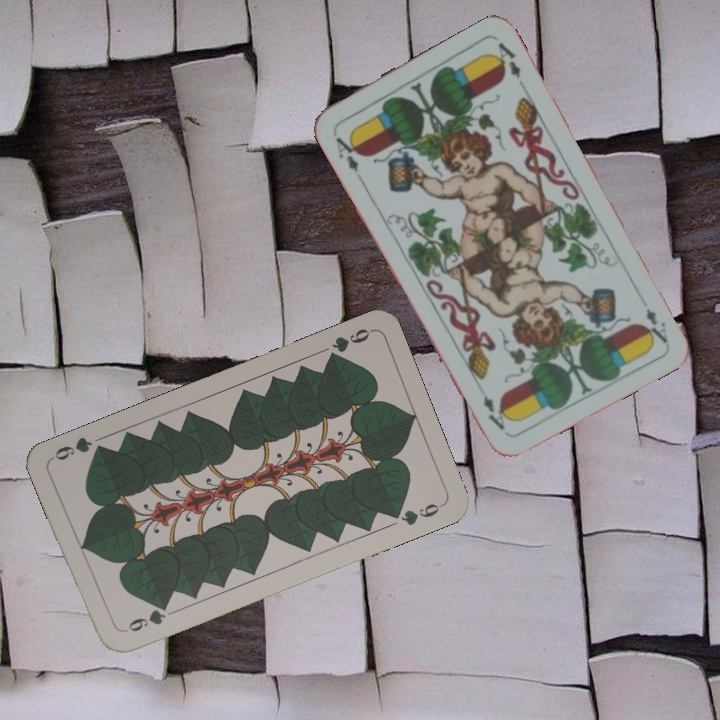EA: (331, 130, 363, 175), (638, 304, 670, 347)
G9: (323, 324, 375, 364), (118, 600, 171, 636)
